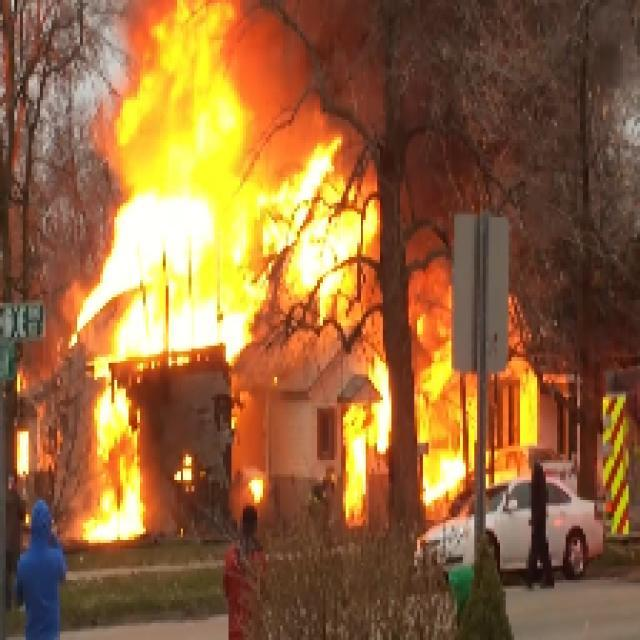Fire: (116, 72, 542, 489)
